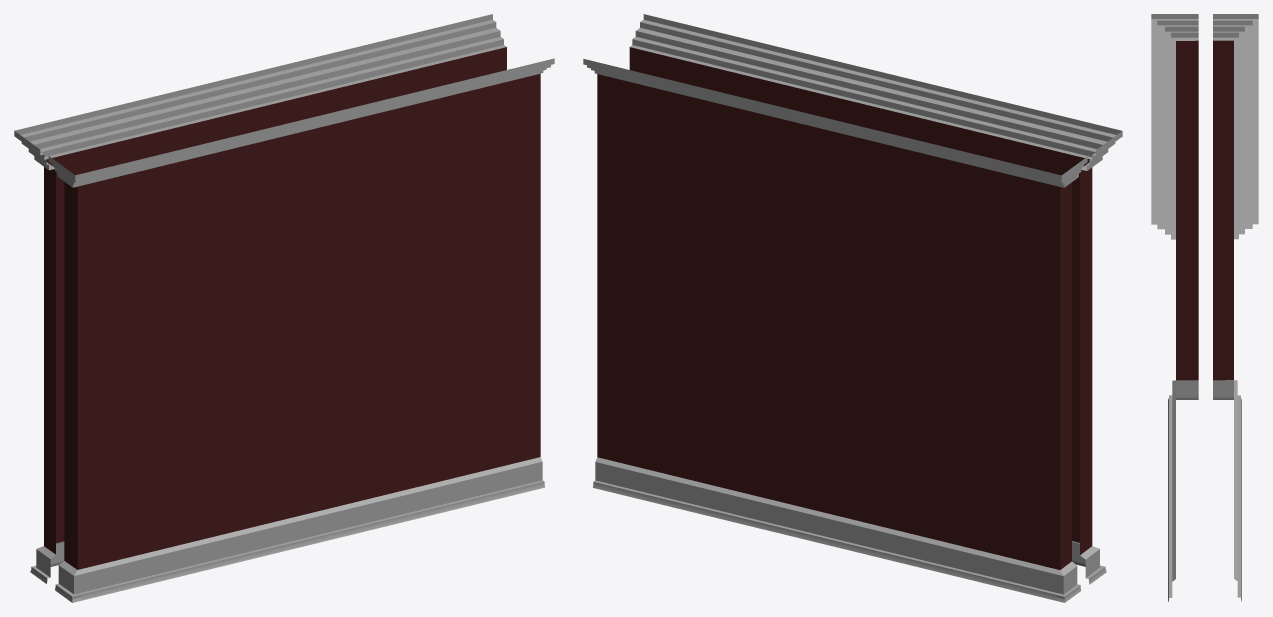
Rendered from edge wall split.fbx.
3 views of the same model, side by side, from view 1: azimuth 30°, elevation 25°; view 2: azimuth 150°, elevation 25°; view 3: azimuth 270°, elevation 25° (orthographic). The views are drawn at different scales.
Visible parts, largest first — view 1: WallOneSide30, WallOneSide31; view 2: WallOneSide31, WallOneSide30; view 3: WallOneSide30, WallOneSide31.
Boxes of the visible parts, box(x1,y1,x2,y2) form: WallOneSide30: box(48, 58, 554, 602); WallOneSide31: box(14, 14, 506, 583); WallOneSide31: box(583, 59, 1087, 602); WallOneSide30: box(629, 14, 1122, 584); WallOneSide30: box(1151, 14, 1198, 601); WallOneSide31: box(1213, 14, 1258, 601).
Size of the model in its own units: 4.14 by 3.6 by 0.9114.
